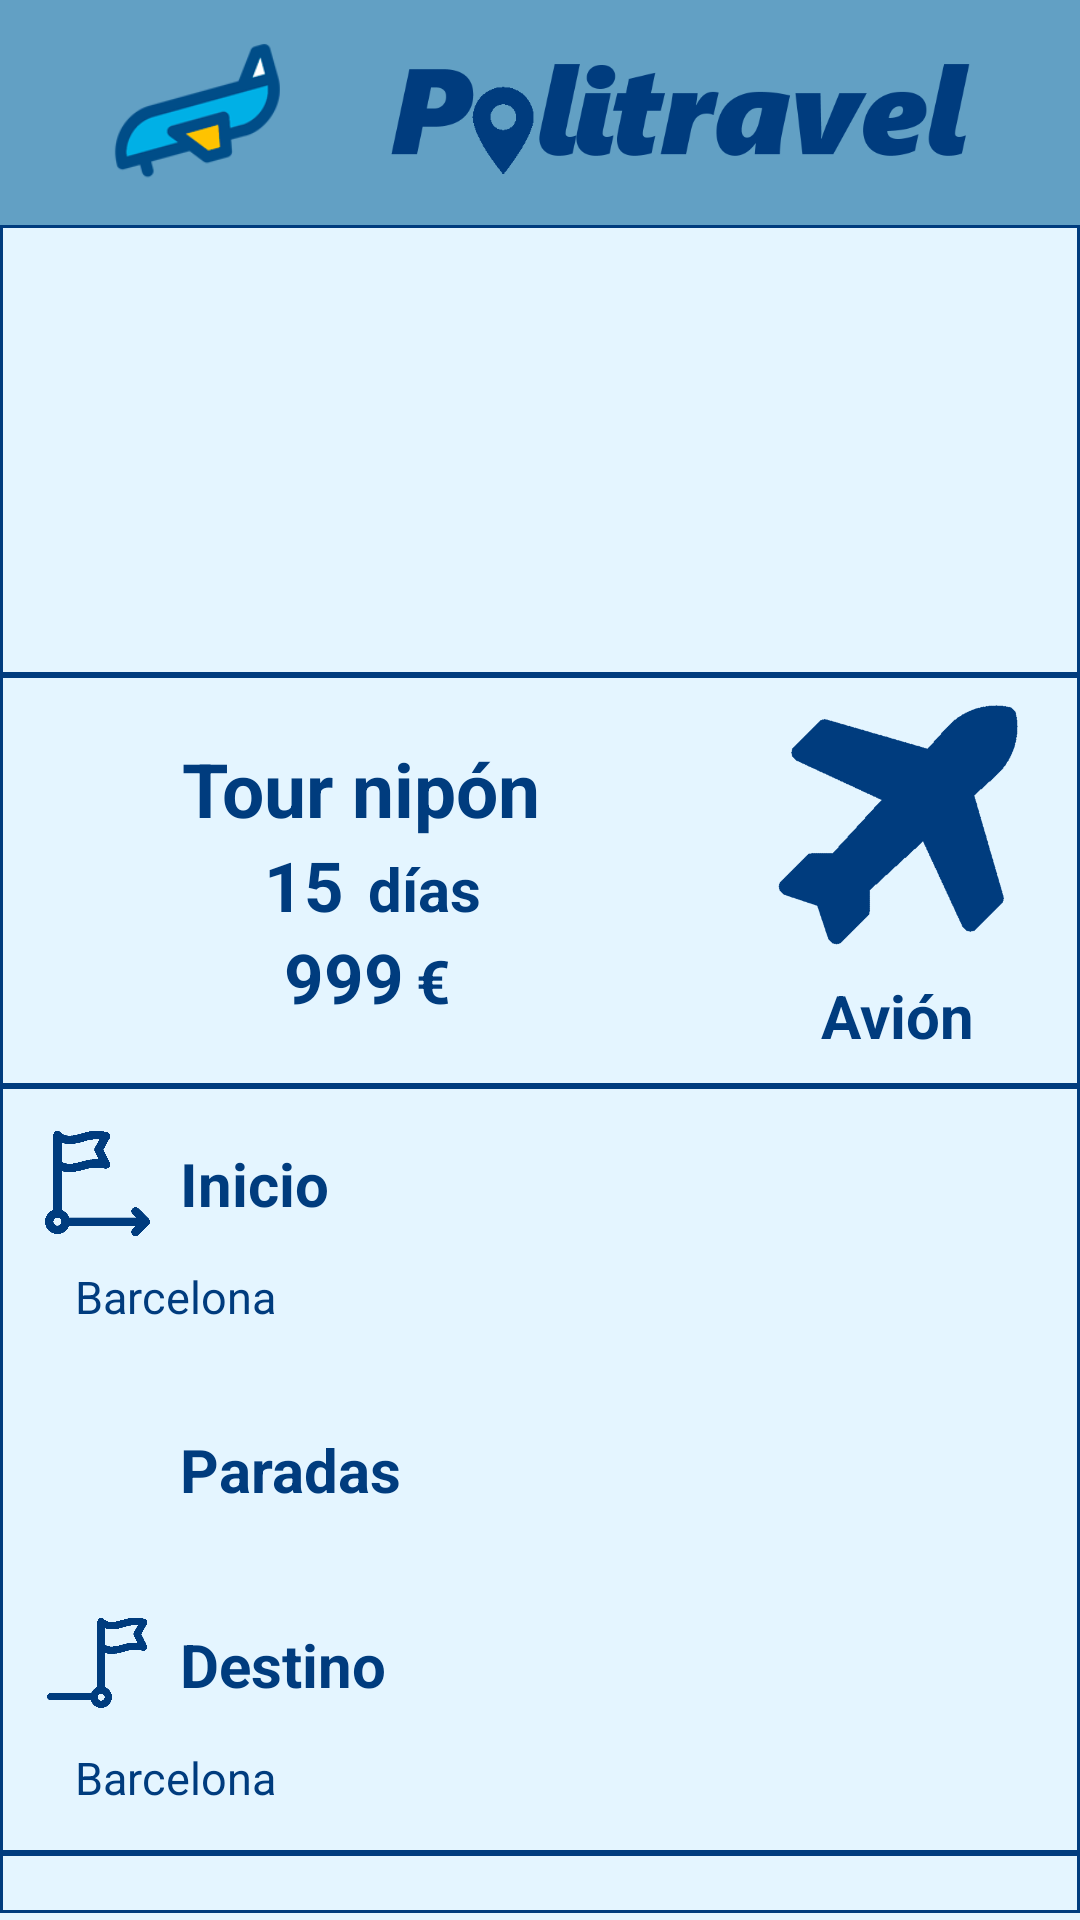

Point at icon controls on the screen. Image size 1080×1920, points as (x,y).
startpoint: (97,1183)
